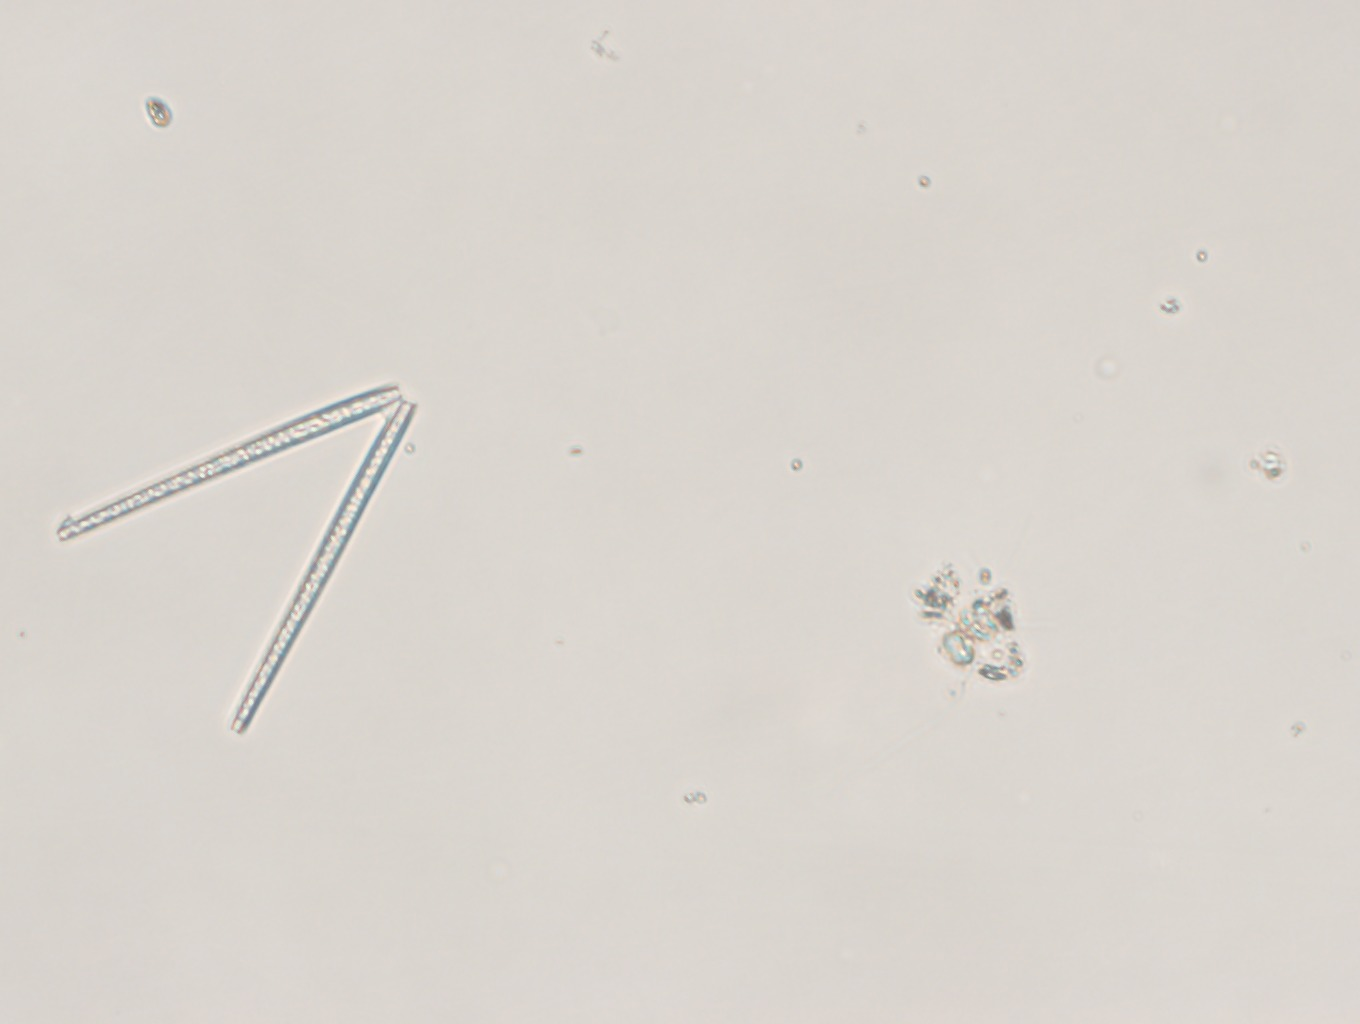thalassionema frauenfeldii: (57, 380, 423, 742)
